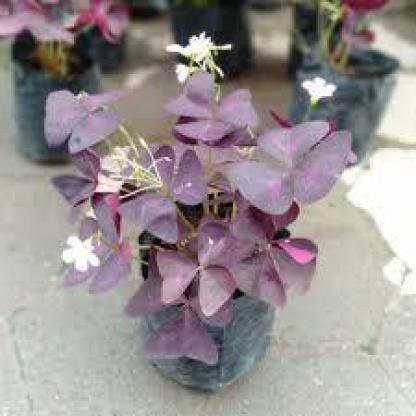Kupu-Kupu: (245, 127, 334, 210), (142, 278, 221, 367), (245, 212, 301, 317), (151, 234, 232, 299), (123, 162, 195, 232), (173, 86, 254, 136), (38, 92, 117, 138)
